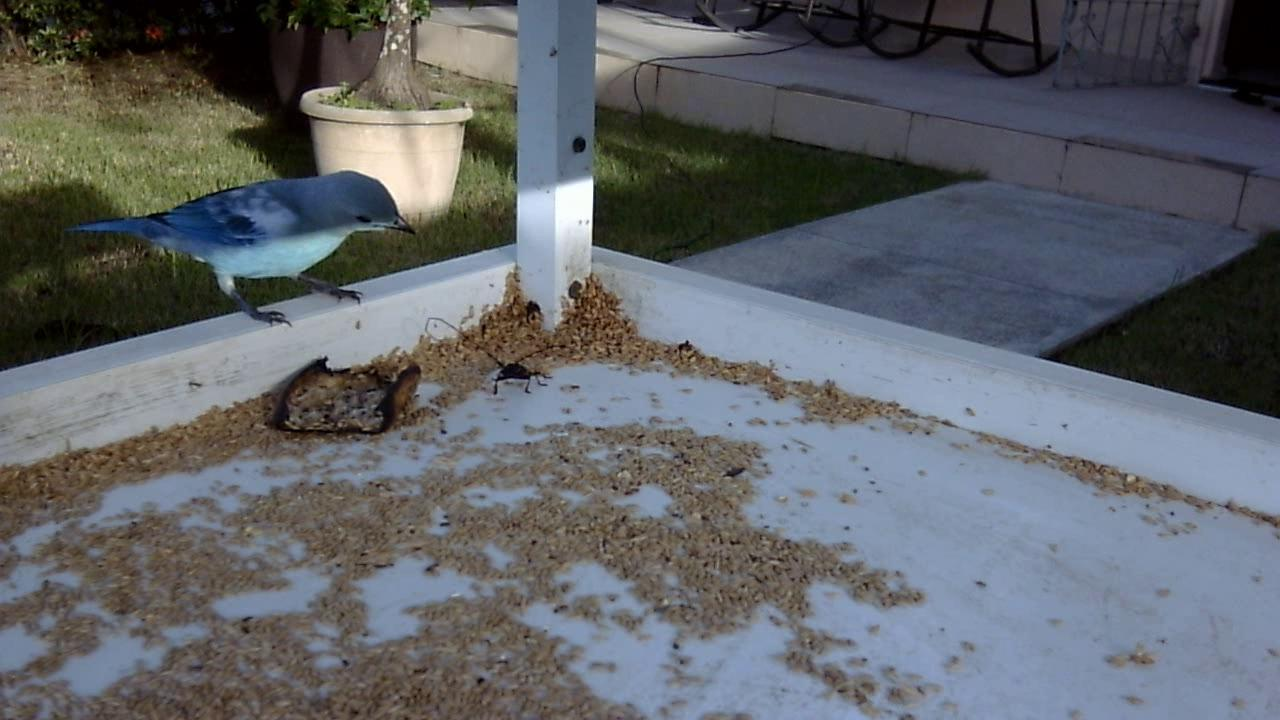sanhaco_da_amazonia: (72, 157, 416, 337)
